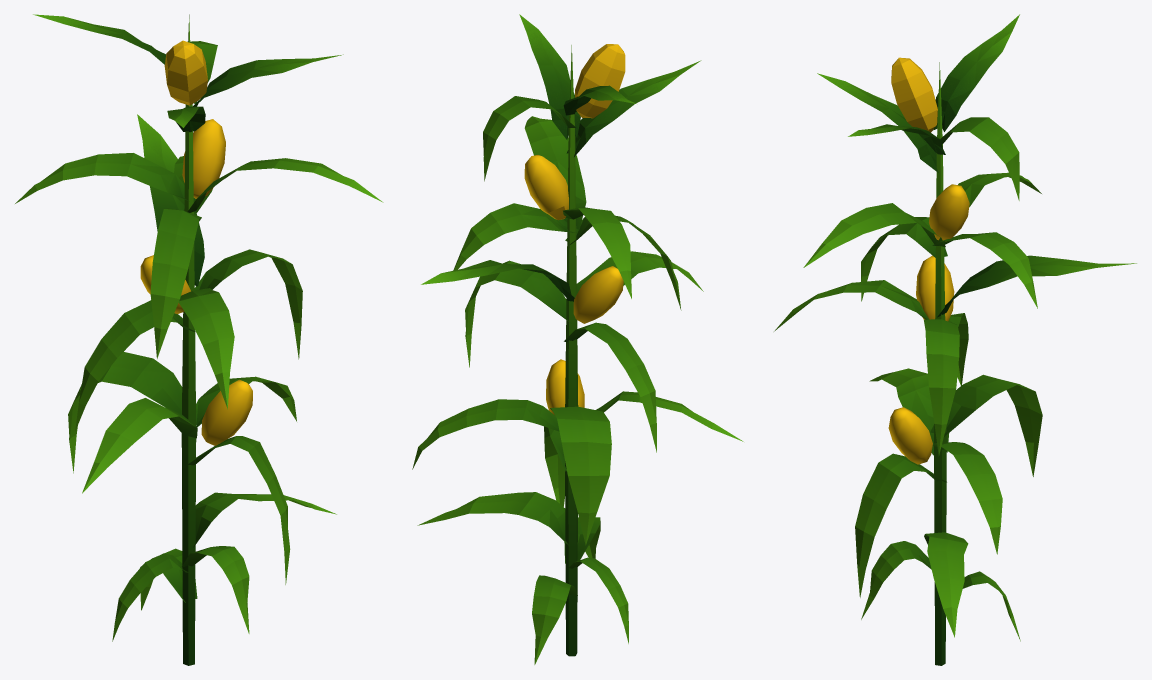
The model's file is Corn_2.fbx.
The picture shows the model from 3 angles, left to right: view 1: azimuth 30°, elevation 25°; view 2: azimuth 150°, elevation 25°; view 3: azimuth 270°, elevation 25°; orthographic projection. The views are drawn at different scales.
Parts seen in each view (by area): view 1: Corn_2; view 2: Corn_2; view 3: Corn_2.
Part boxes in pixels (x1,y1,x2,y2): Corn_2: [15, 14, 383, 665]; Corn_2: [412, 14, 743, 664]; Corn_2: [774, 14, 1136, 665].
Size of the model in its own units: 0.9898 by 2.03 by 1.11.
